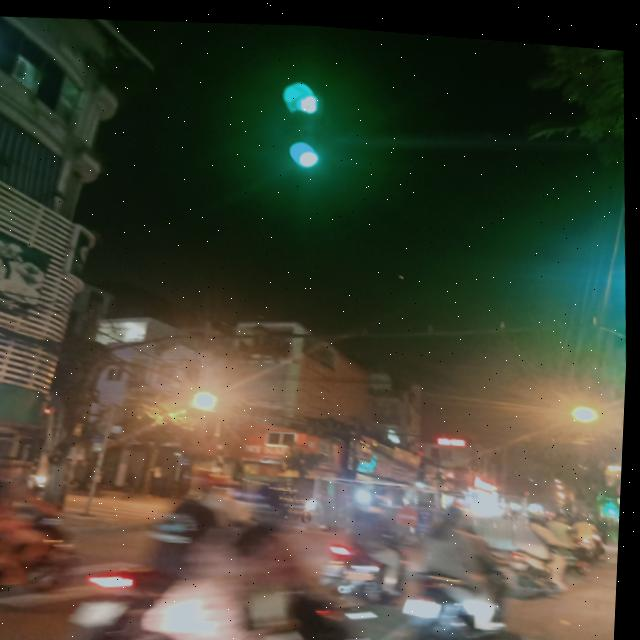Green: (281, 107, 332, 187)
